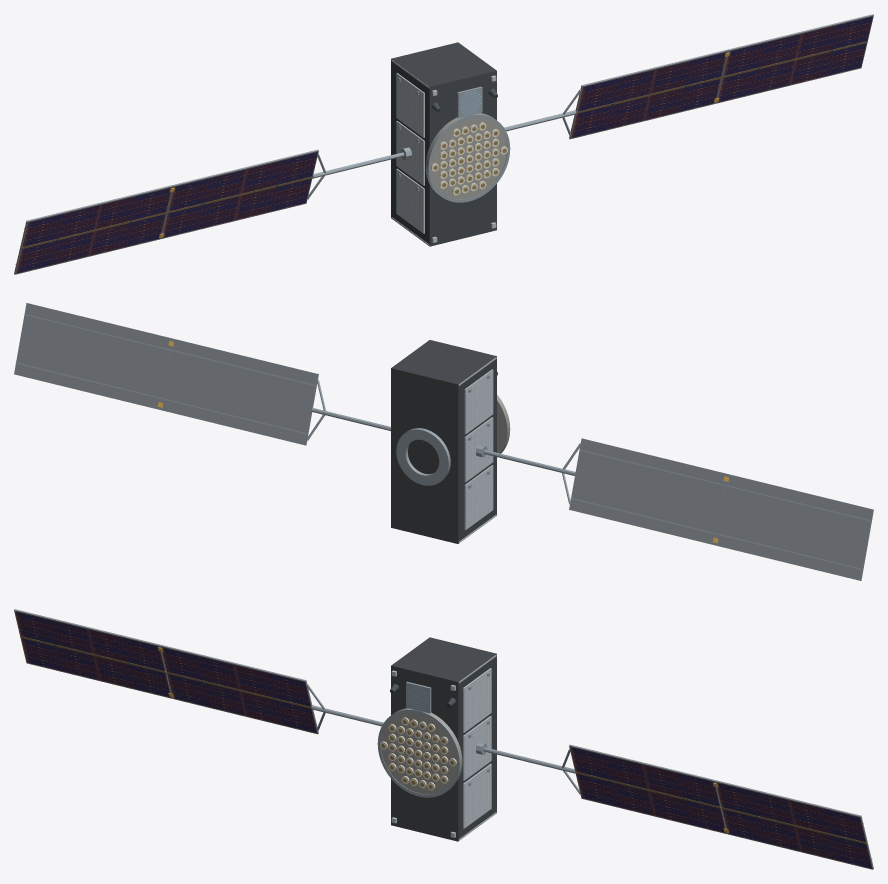
File: galileo-iov.glb
The picture shows the model from 3 angles, top to bottom: view 1: azimuth 30°, elevation 25°; view 2: azimuth 150°, elevation 25°; view 3: azimuth 330°, elevation 25°; orthographic projection.
Visible parts, largest first — view 1: Photovoltaic laminate (×8), Insulated spacecraft body, Optical radiator bay (×3), Solar array leaf (×4), L-band navigation antenna carrier, Antenna retaining rim, Laser retroreflector tray; view 2: Solar array leaf (×4), Insulated spacecraft body, Optical radiator bay (×3), Launch interface ring, L-band navigation antenna carrier; view 3: Photovoltaic laminate (×8), Insulated spacecraft body, Optical radiator bay (×3), Solar array leaf (×4), L-band navigation antenna carrier, Antenna retaining rim, Laser retroreflector tray.
Part boxes in pixels (x1=…): Photovoltaic laminate (×8): x1=16, y1=16, x2=872, y2=273; Insulated spacecraft body: x1=391, y1=42, x2=496, y2=246; Optical radiator bay (×3): x1=396, y1=73, x2=424, y2=233; Solar array leaf (×4): x1=14, y1=14, x2=873, y2=274; L-band navigation antenna carrier: x1=425, y1=113, x2=506, y2=199; Antenna retaining rim: x1=428, y1=114, x2=510, y2=202; Laser retroreflector tray: x1=457, y1=86, x2=482, y2=118; Solar array leaf (×4): x1=14, y1=303, x2=873, y2=580; Insulated spacecraft body: x1=391, y1=340, x2=496, y2=543; Optical radiator bay (×3): x1=464, y1=369, x2=493, y2=529; Launch interface ring: x1=396, y1=428, x2=450, y2=485; L-band navigation antenna carrier: x1=497, y1=396, x2=509, y2=453; Photovoltaic laminate (×8): x1=15, y1=611, x2=871, y2=868; Insulated spacecraft body: x1=391, y1=637, x2=496, y2=841; Optical radiator bay (×3): x1=463, y1=668, x2=491, y2=828; Solar array leaf (×4): x1=14, y1=609, x2=873, y2=869; L-band navigation antenna carrier: x1=381, y1=708, x2=462, y2=794; Antenna retaining rim: x1=377, y1=709, x2=459, y2=797; Laser retroreflector tray: x1=406, y1=681, x2=431, y2=713.
Size of the model in its own units: 14.49 by 2.61 by 1.42.
Materials: 13 (2 with a texture image).
